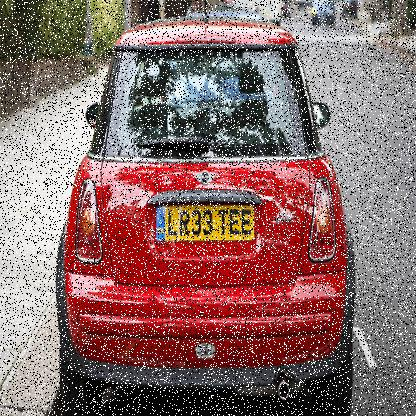licence: (155, 203, 255, 239)
